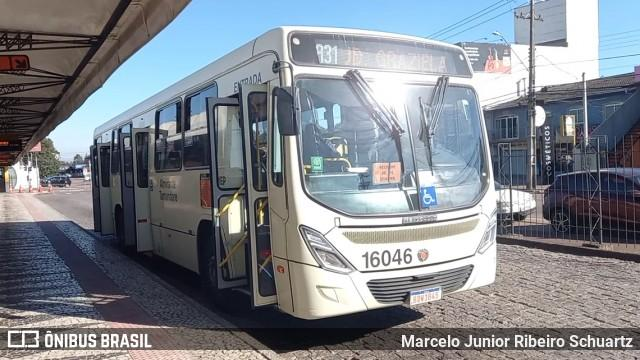JD GRAZIELA: (341, 44, 451, 74)
